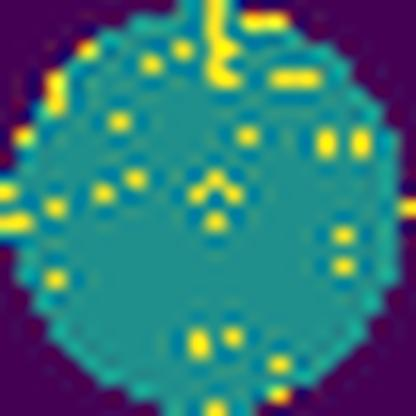Scratch: (200, 0, 245, 95)
